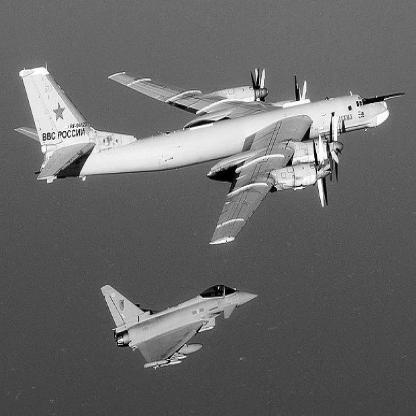EF2000: (102, 285, 261, 372)
Tu95: (15, 67, 407, 246)
